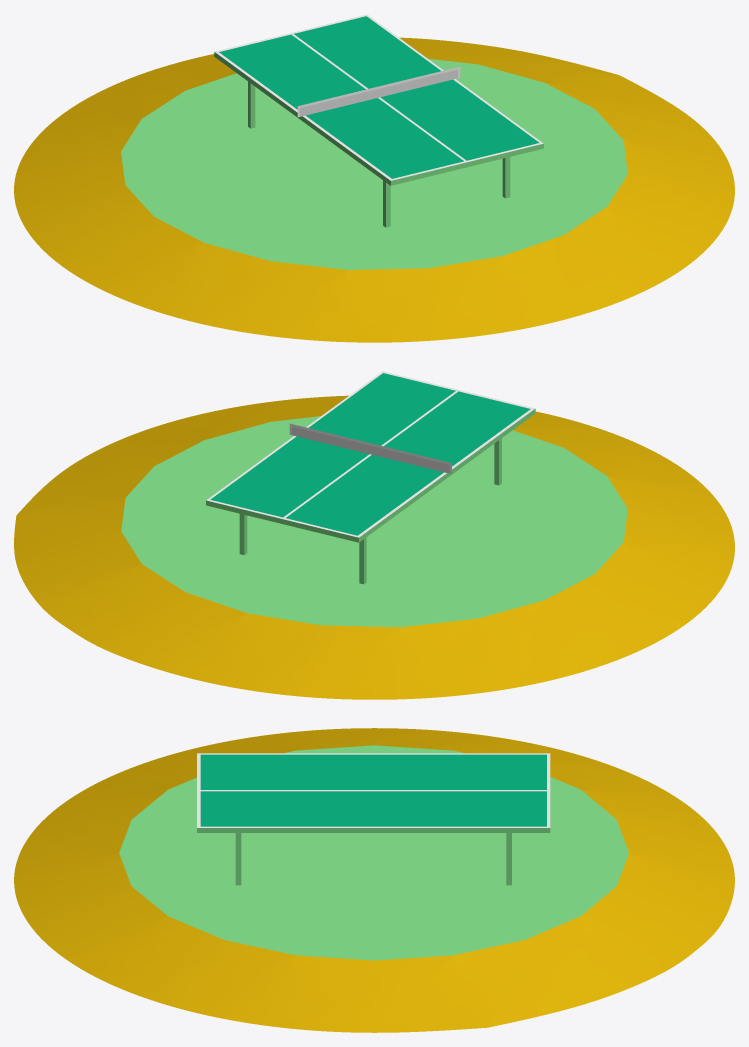
The model's file is Rhyhtm.glb.
The picture shows the model from 3 angles, top to bottom: view 1: azimuth 30°, elevation 25°; view 2: azimuth 150°, elevation 25°; view 3: azimuth 270°, elevation 25°; orthographic projection.
Parts seen in each view (by area): view 1: Platform, Level; view 2: Platform, Level; view 3: Platform, Level.
Part boxes in pixels (box(x1,y1,x2,y2)): Platform: box(14, 37, 734, 342); Level: box(214, 14, 543, 227); Platform: box(14, 395, 734, 699); Level: box(206, 371, 535, 584); Platform: box(14, 728, 734, 1032); Level: box(197, 753, 550, 885).
Size of what is drawn, in the model's own units: 16.32 by 3.52 by 16.32.
Materials: 5 (5 with a texture image).
